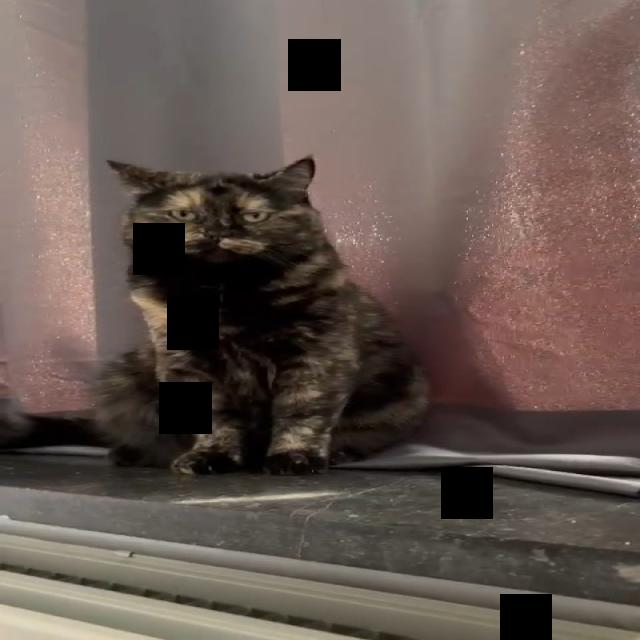authorized: (89, 154, 432, 475)
